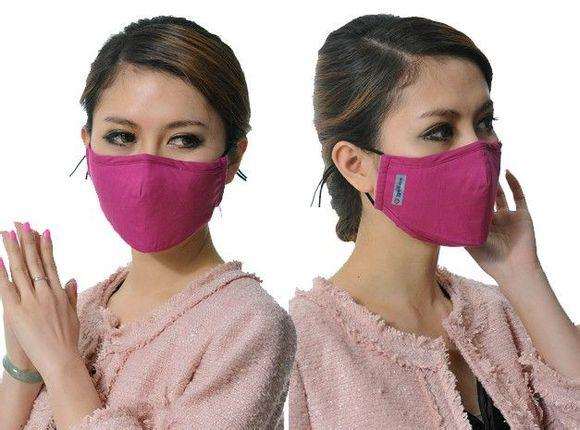OK: (361, 98, 504, 249), (91, 107, 227, 243)
